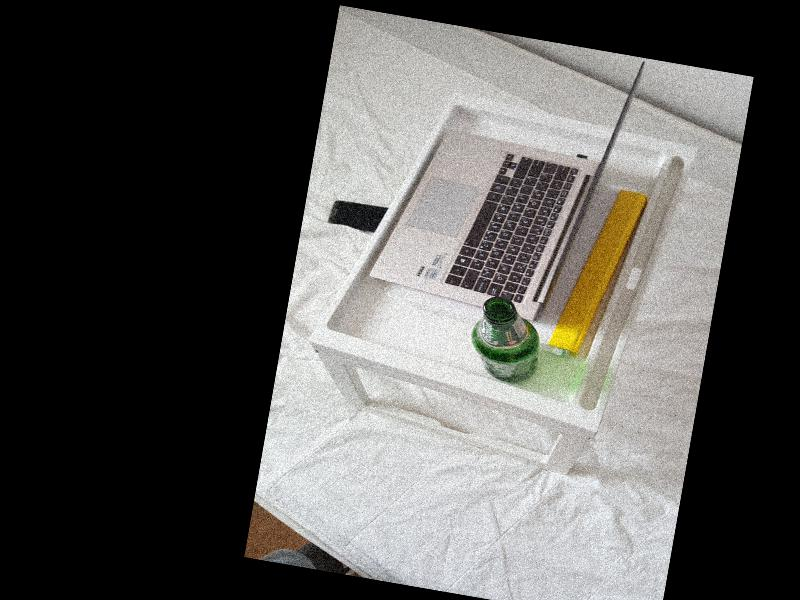Beer: (464, 294, 547, 387)
